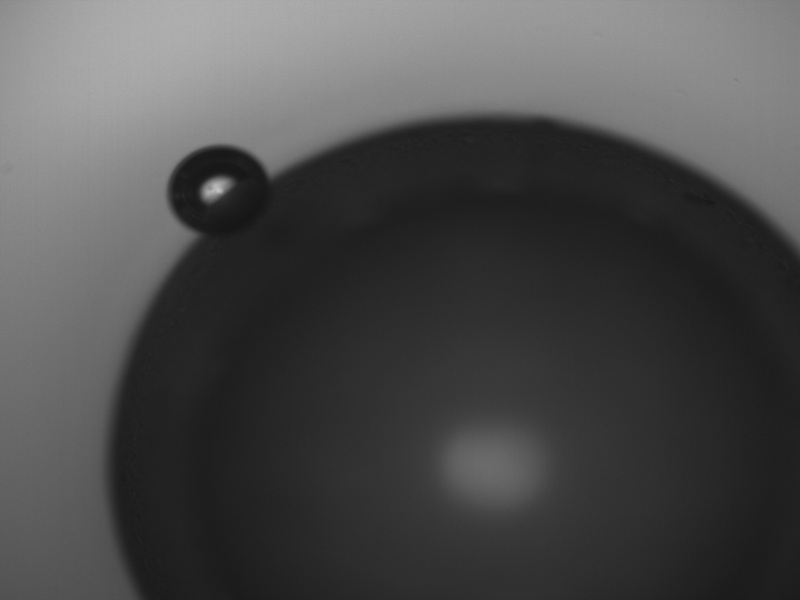bead: (106, 115, 800, 599), (167, 144, 274, 234)
